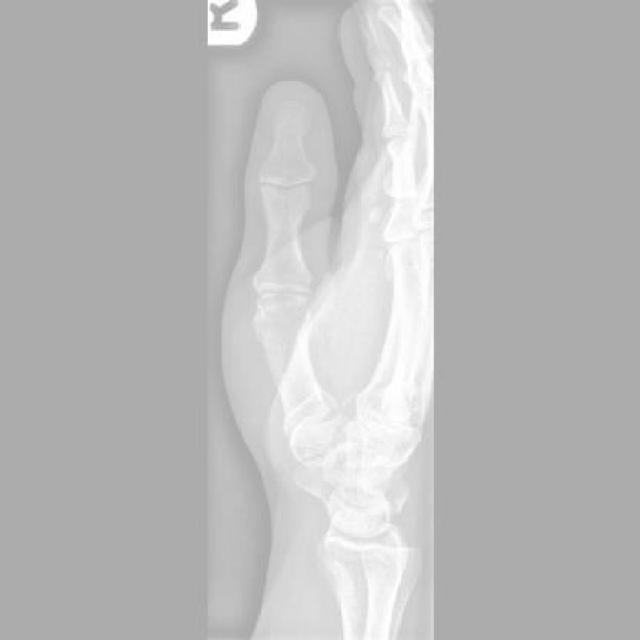Fracture: (247, 300, 296, 366)
